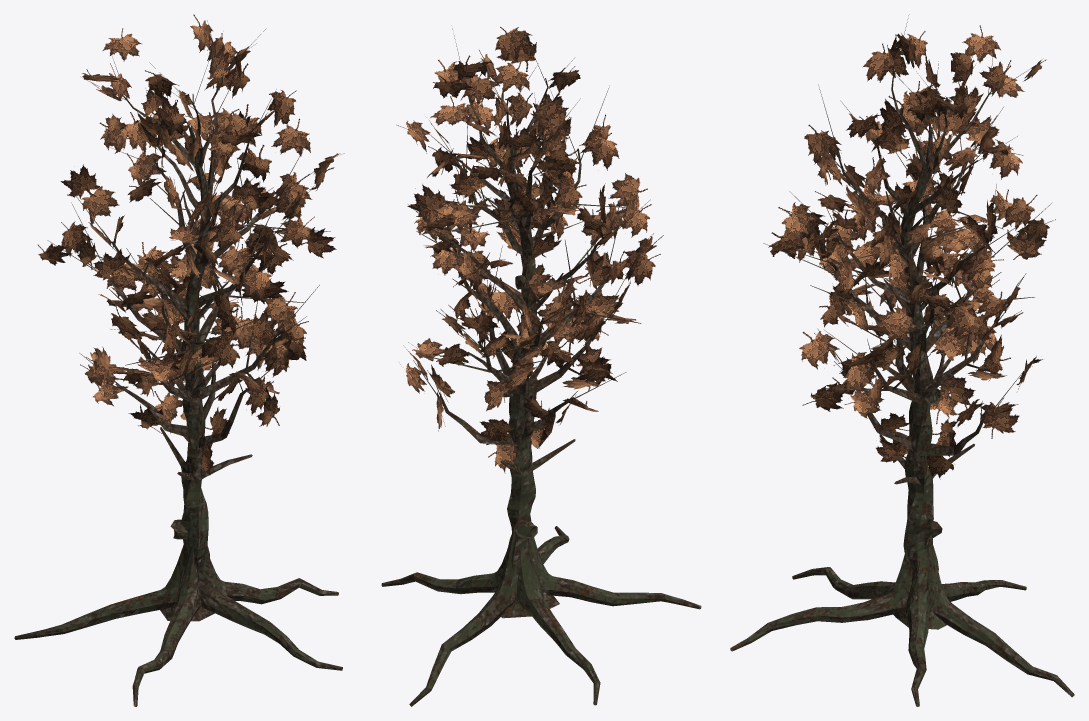
Rendered from TreeLeaf_03.fbx.
3 views of the same model, side by side, from view 1: azimuth 30°, elevation 25°; view 2: azimuth 150°, elevation 25°; view 3: azimuth 270°, elevation 25° (orthographic). The views are drawn at different scales.
Parts seen in each view (by area): view 1: TreeLeaf_03; view 2: TreeLeaf_03; view 3: TreeLeaf_03.
Part boxes in pixels (x1,y1,x2,y2): TreeLeaf_03: [14, 14, 344, 706]; TreeLeaf_03: [381, 27, 701, 706]; TreeLeaf_03: [730, 14, 1074, 706].
Bounding box in the file's own units: 371 × 848 × 399.
Materials: 2 (2 with a texture image).
